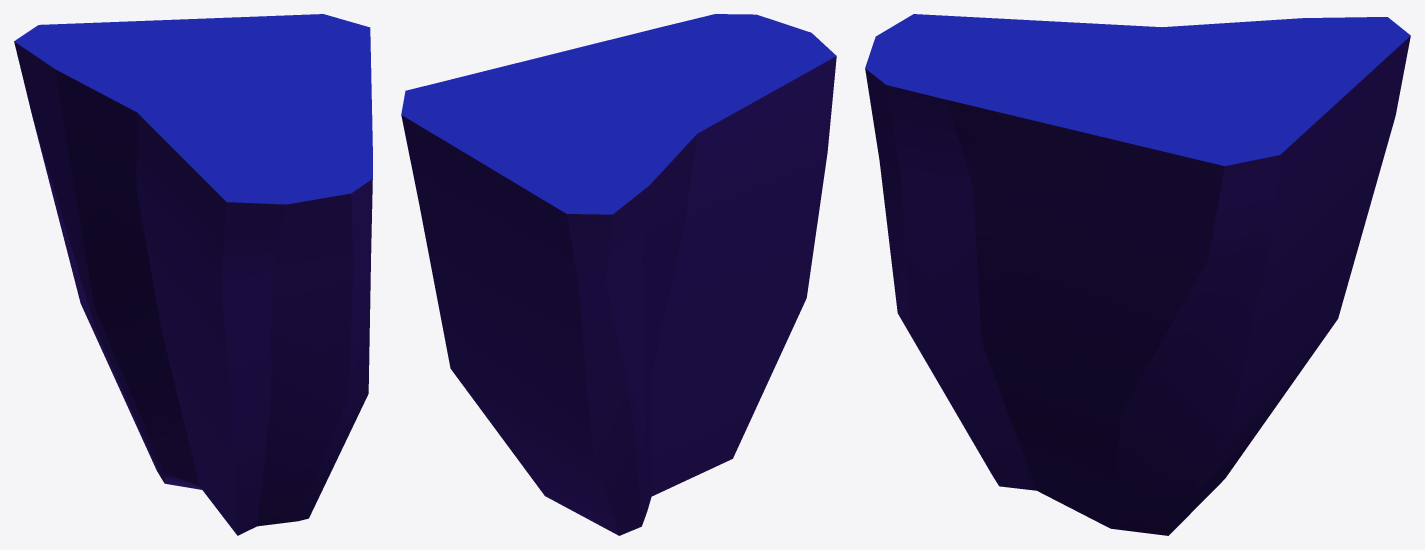
The model's file is Land_02_low.fbx.
3 renders of one model, left to right at view 1: azimuth 30°, elevation 25°; view 2: azimuth 150°, elevation 25°; view 3: azimuth 270°, elevation 25°, orthographic. The views are drawn at different scales.
Parts seen in each view (by area): view 1: Land_03; view 2: Land_03; view 3: Land_03.
Boxes of the visible parts, x1=… form: Land_03: x1=14, y1=14, x2=372, y2=535; Land_03: x1=401, y1=14, x2=836, y2=535; Land_03: x1=865, y1=14, x2=1410, y2=535.
Bounding box in the file's own units: 1053 × 1387 × 1596.
